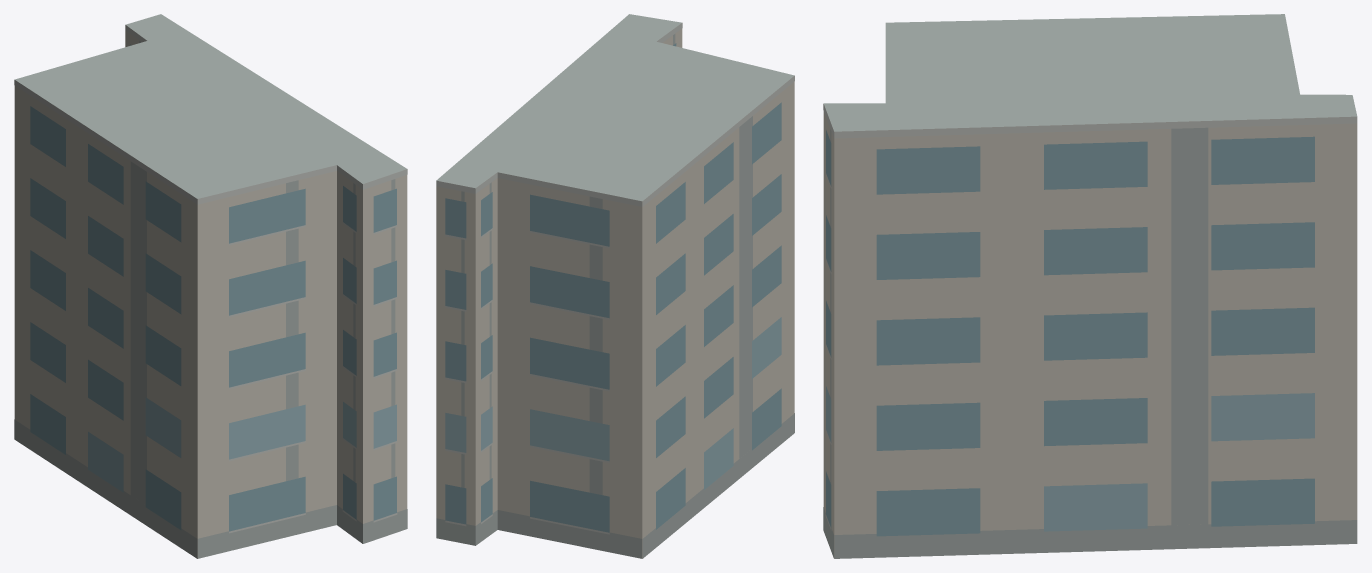
Rendered from survey-upis-32963827.glb.
The picture shows the model from 3 angles, left to right: view 1: azimuth 30°, elevation 25°; view 2: azimuth 150°, elevation 25°; view 3: azimuth 270°, elevation 25°; orthographic projection. The views are drawn at different scales.
Visible parts, largest first — view 1: survey-upis-32963827.tmp; view 2: survey-upis-32963827.tmp; view 3: survey-upis-32963827.tmp.
Boxes of the visible parts, bbox=[...] form: survey-upis-32963827.tmp: bbox=[14, 14, 407, 558]; survey-upis-32963827.tmp: bbox=[436, 14, 794, 558]; survey-upis-32963827.tmp: bbox=[823, 14, 1357, 558].
Bounding box in the file's own units: 9.02 × 15.25 × 17.28.
